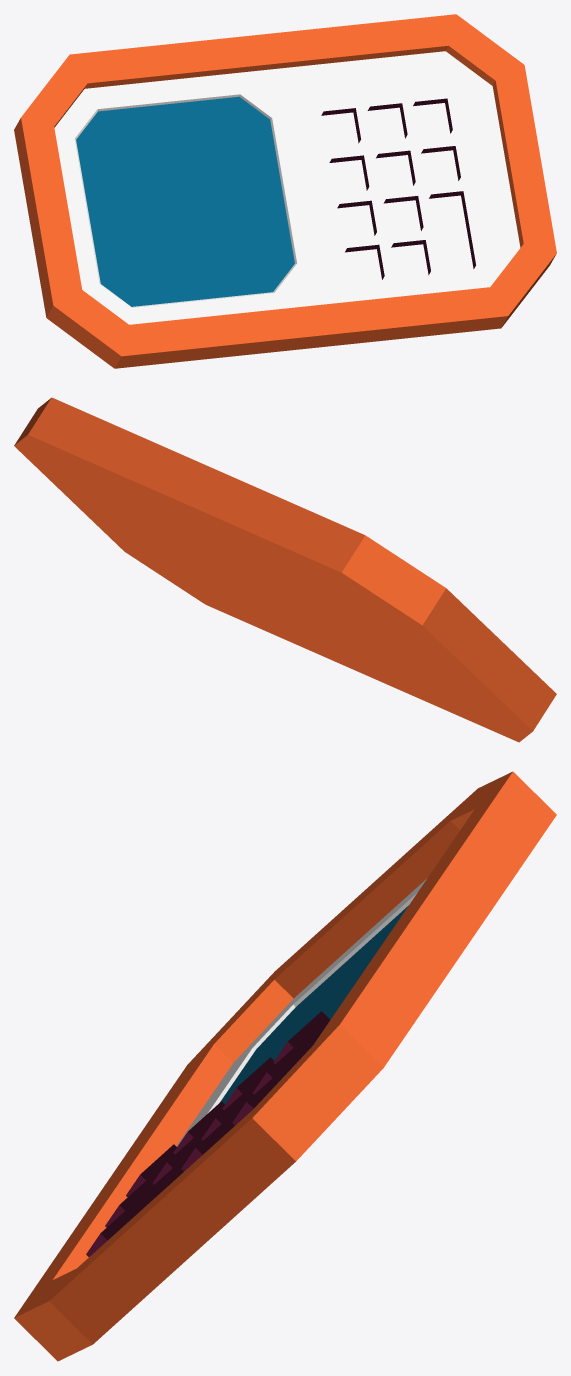
File: tablet.fbx
3 views of the same model, one above another, from view 1: azimuth 30°, elevation 25°; view 2: azimuth 150°, elevation 25°; view 3: azimuth 270°, elevation 25° (orthographic). The views are drawn at different scales.
Parts seen in each view (by area): view 1: Cube.170; view 2: Cube.170; view 3: Cube.170.
Boxes of the visible parts, bbox=[...] form: Cube.170: bbox=[14, 14, 556, 368]; Cube.170: bbox=[14, 397, 556, 742]; Cube.170: bbox=[14, 771, 556, 1361].
Size of the model in its own units: 171 by 82.29 by 109.
